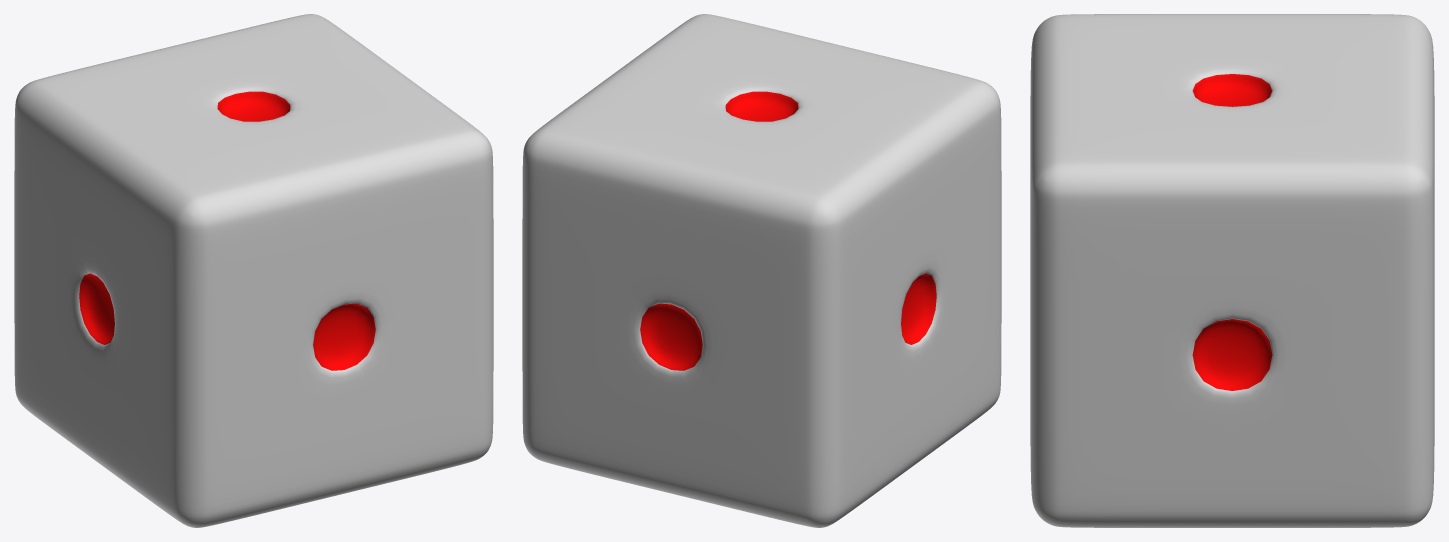
The model's file is saikorod3.fbx.
3 views of the same model, side by side, from view 1: azimuth 30°, elevation 25°; view 2: azimuth 150°, elevation 25°; view 3: azimuth 270°, elevation 25° (orthographic). The views are drawn at different scales.
Parts seen in each view (by area): view 1: Cube.003; view 2: Cube.003; view 3: Cube.003.
Boxes of the visible parts, bbox=[...] form: Cube.003: bbox=[14, 14, 493, 527]; Cube.003: bbox=[522, 14, 1001, 527]; Cube.003: bbox=[1030, 14, 1434, 527].
Bounding box in the file's own units: 200 × 200 × 200.
